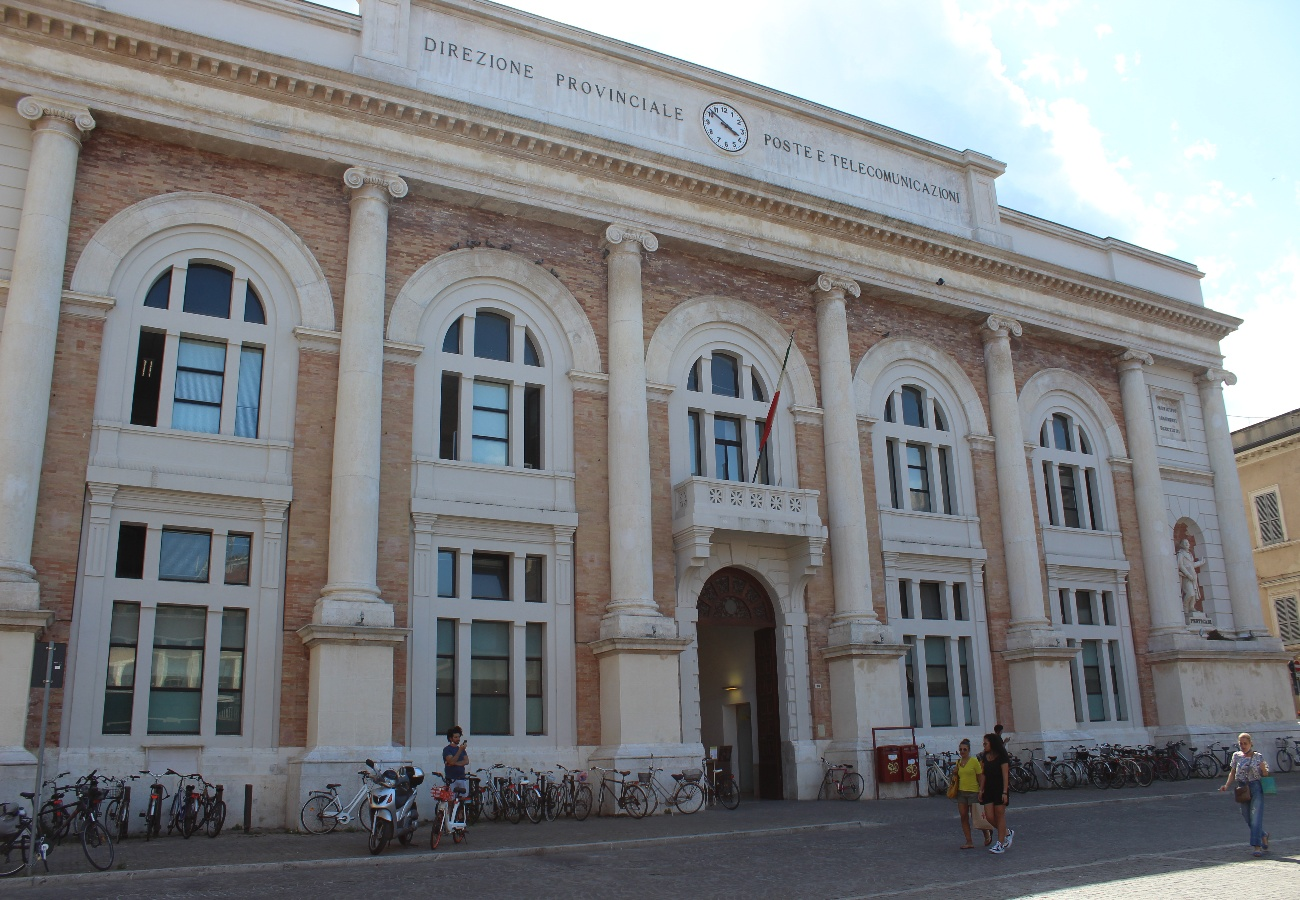Palazzo delle Poste: (8, 17, 1268, 783)
